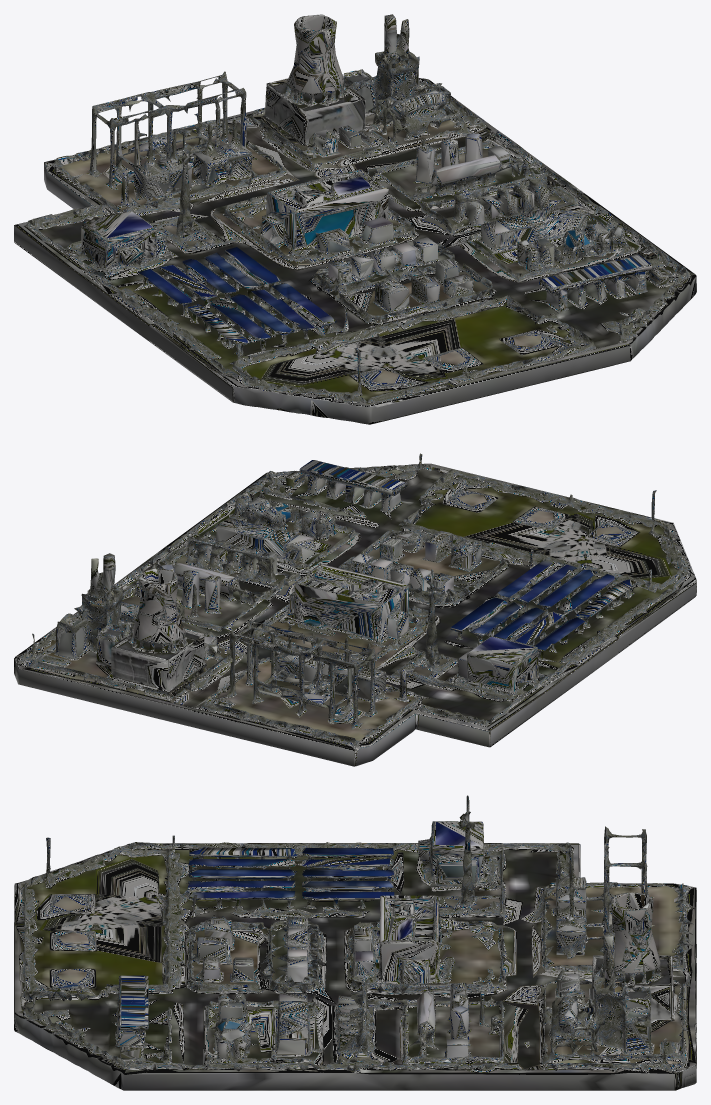
The model's file is Factory_LOD0.fbx.
3 views of the same model, one above another, from view 1: azimuth 30°, elevation 25°; view 2: azimuth 150°, elevation 25°; view 3: azimuth 270°, elevation 25° (orthographic). The views are drawn at different scales.
Visible parts, largest first — view 1: Factory_LOD0; view 2: Factory_LOD0; view 3: Factory_LOD0.
Boxes of the visible parts, x1,y1,x2,y2 form: Factory_LOD0: (14,14,696,424); Factory_LOD0: (14,453,696,766); Factory_LOD0: (14,795,696,1090).
Size of the model in its own units: 128 by 32.27 by 160.
